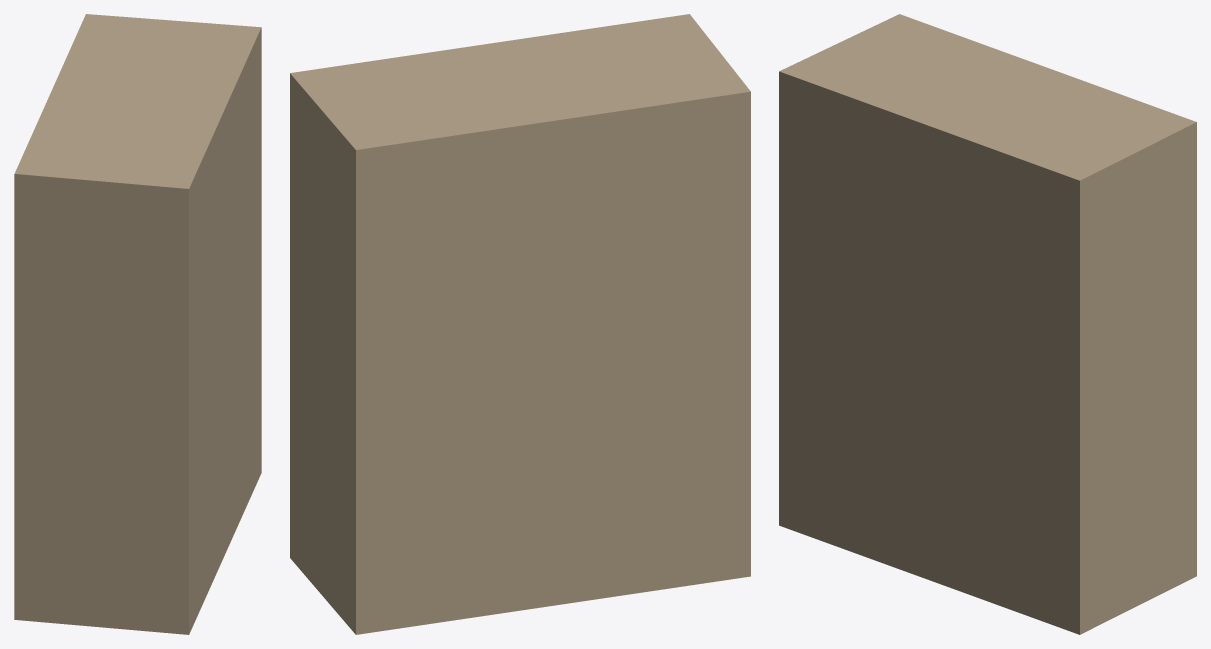
Rendered from bld_101353662.dae.
3 renders of one model, left to right at view 1: azimuth 30°, elevation 25°; view 2: azimuth 150°, elevation 25°; view 3: azimuth 270°, elevation 25°, orthographic. The views are drawn at different scales.
Parts seen in each view (by area): view 1: bld_101353662; view 2: bld_101353662; view 3: bld_101353662.
Boxes of the visible parts, box(x1,y1,x2,y2) form: bld_101353662: box(14, 14, 261, 634); bld_101353662: box(290, 14, 750, 634); bld_101353662: box(779, 14, 1196, 634).
Bounding box in the file's own units: 6.3 × 6.67 × 8.
